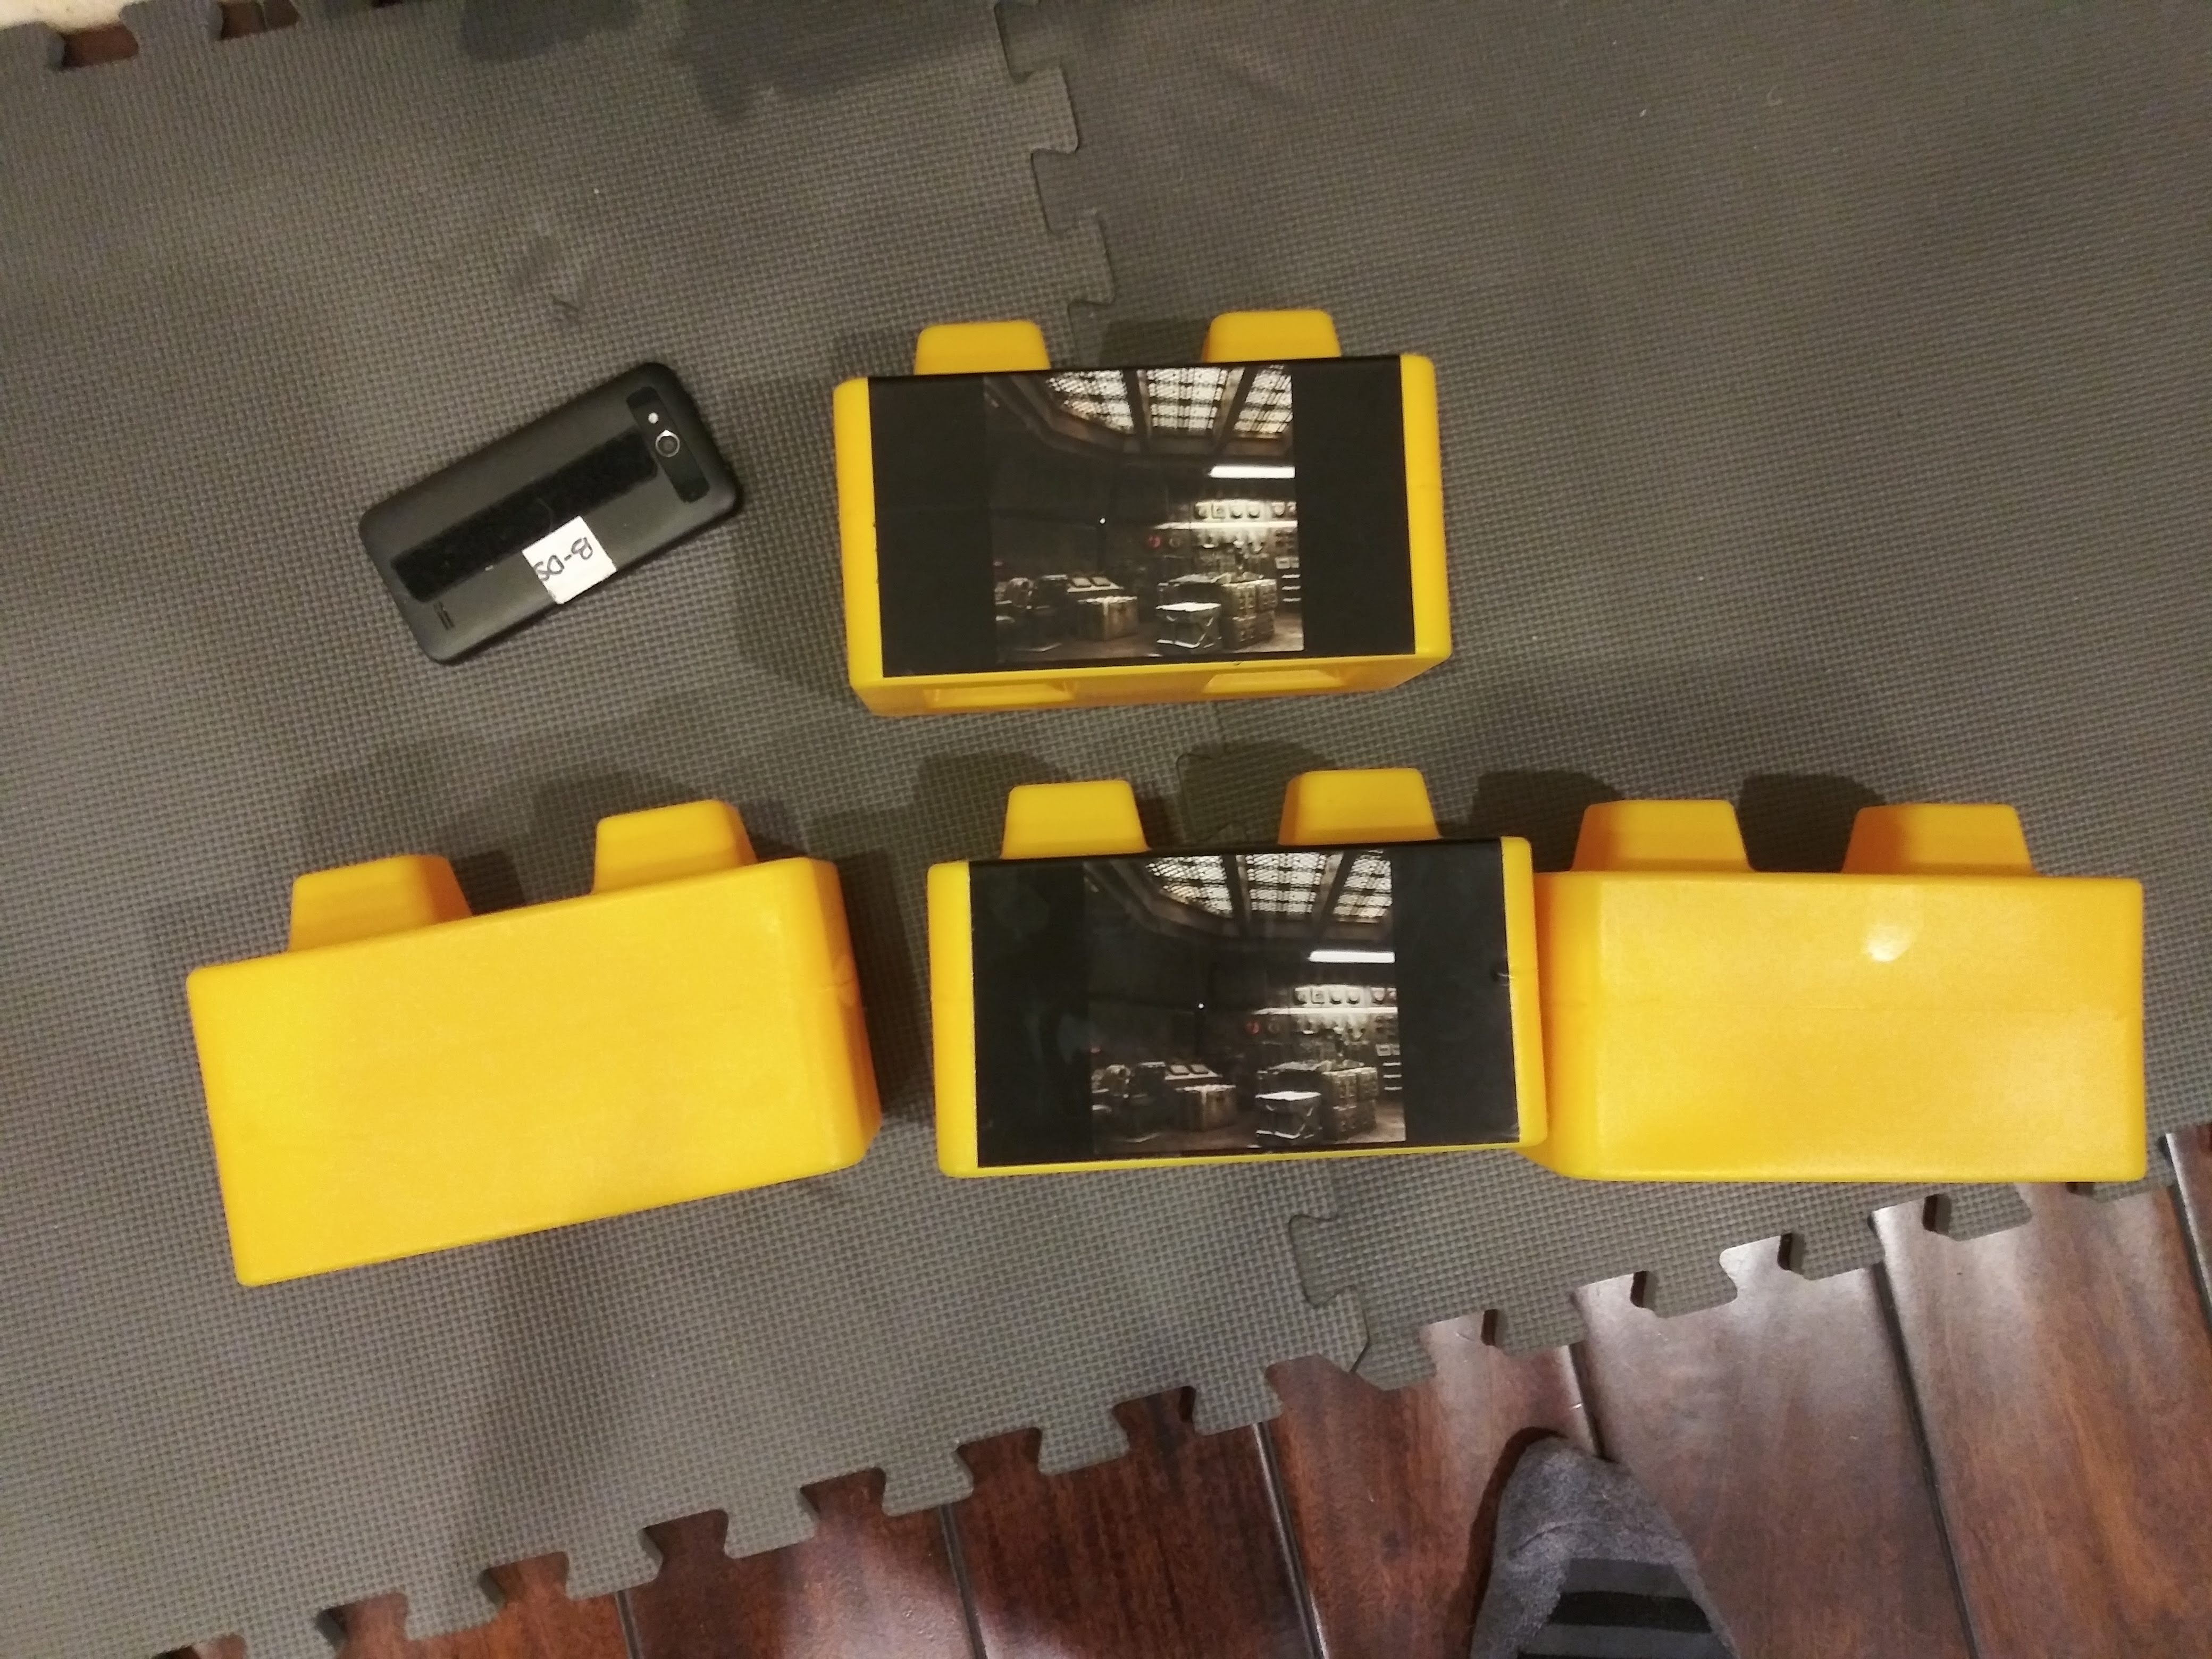skystone: (829, 307, 1472, 706), (907, 786, 1554, 1173)
stone: (160, 849, 853, 1209), (1564, 796, 2160, 1204)
